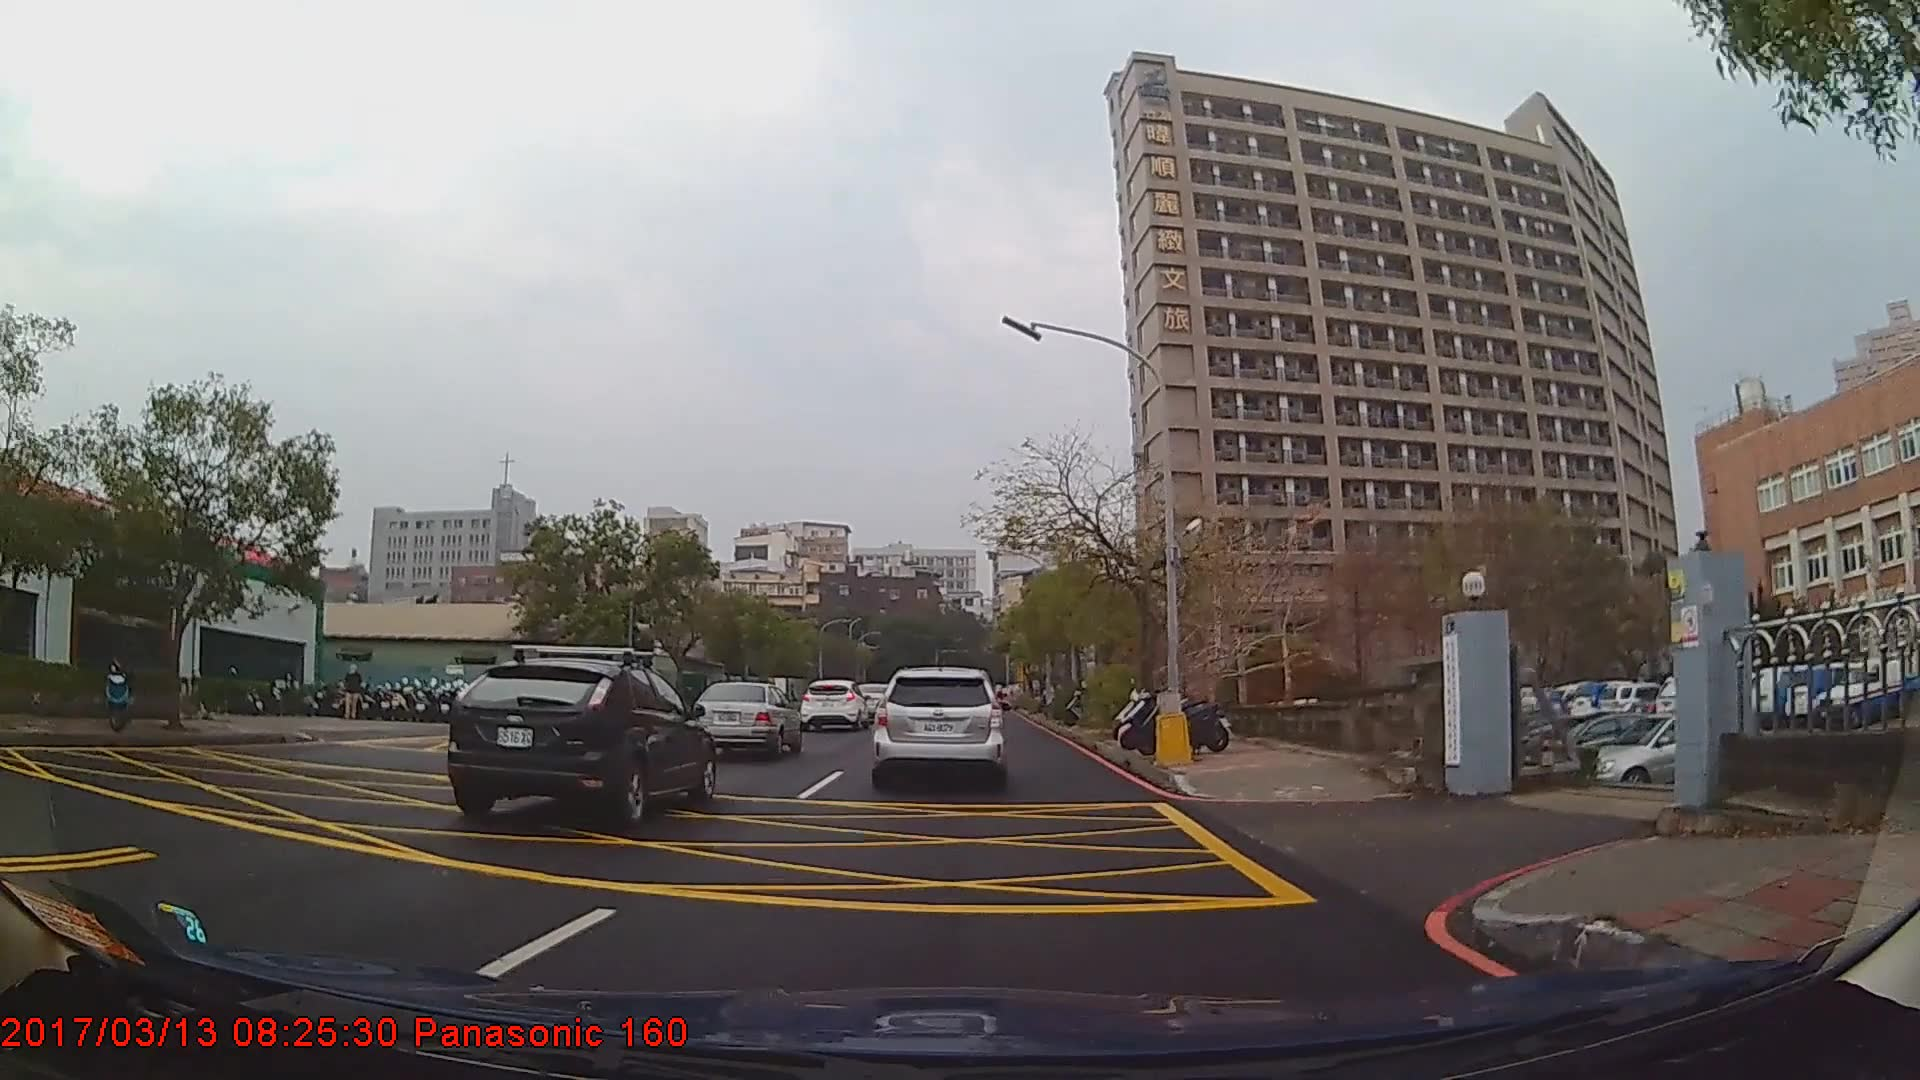pedestrian: (345, 663, 365, 722)
vehicle: (443, 657, 713, 830), (872, 666, 1003, 787), (689, 680, 802, 759), (800, 678, 869, 732)
